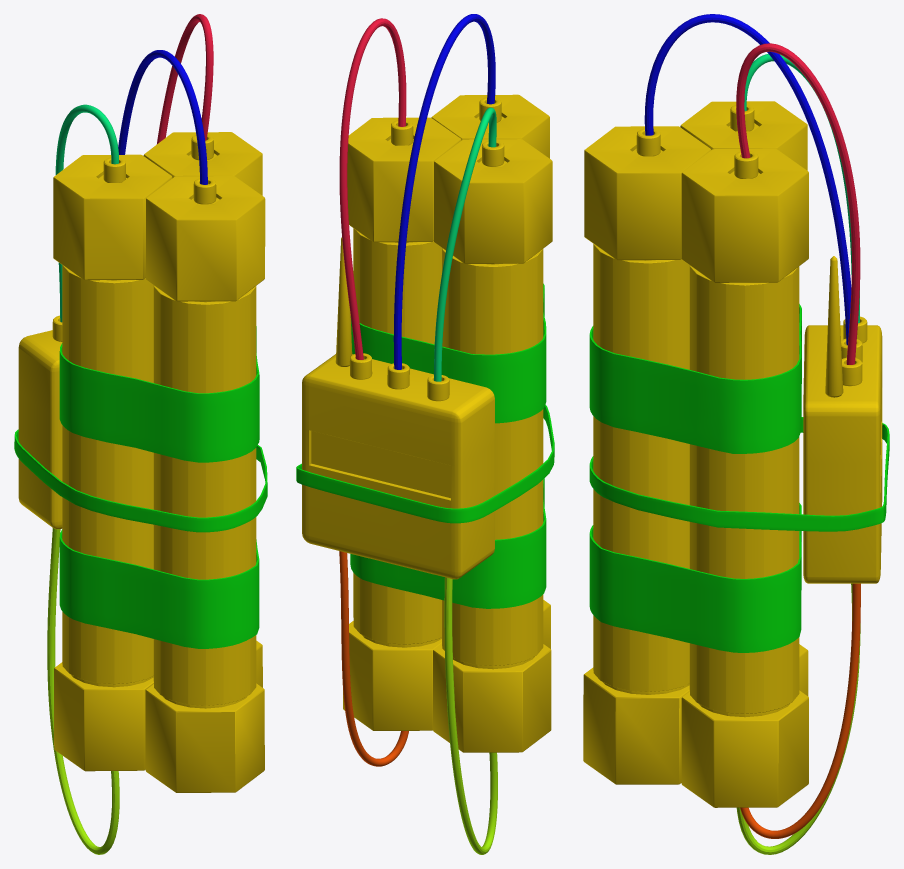
The model's file is boomF(1).fbx.
3 renders of one model, left to right at view 1: azimuth 30°, elevation 25°; view 2: azimuth 150°, elevation 25°; view 3: azimuth 270°, elevation 25°, orthographic. The views are drawn at different scales.
Parts seen in each view (by area): view 1: BOMB.009, tape, 5cable, 2cable, 3cable, 1cable; view 2: BOMB.009, tape, 3cable, 2cable, 5cable, 1cable, 4cable; view 3: BOMB.009, tape, 2cable, 3cable, 4cable, 5cable, 1cable.
Boxes of the visible parts, x1,y1,x2,y2 form: BOMB.009: (18,132,265,792); tape: (14,326,267,648); 5cable: (47,528,119,854); 2cable: (118,50,207,184); 3cable: (156,14,213,144); 1cable: (55,104,118,322); BOMB.009: (302,94,552,752); tape: (296,283,554,608); 3cable: (339,18,406,359); 2cable: (393,14,495,369); 5cable: (444,577,497,854); 1cable: (434,107,496,381); 4cable: (339,551,408,766); BOMB.009: (583,101,882,807); tape: (589,304,889,652); 2cable: (644,14,851,345); 3cable: (736,43,860,364); 4cable: (740,583,860,838); 5cable: (736,583,860,854); 1cable: (744,53,859,323).
Bounding box in the file's own units: 221 × 905 × 290.
